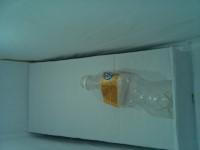bottle: (79, 70, 173, 116)
